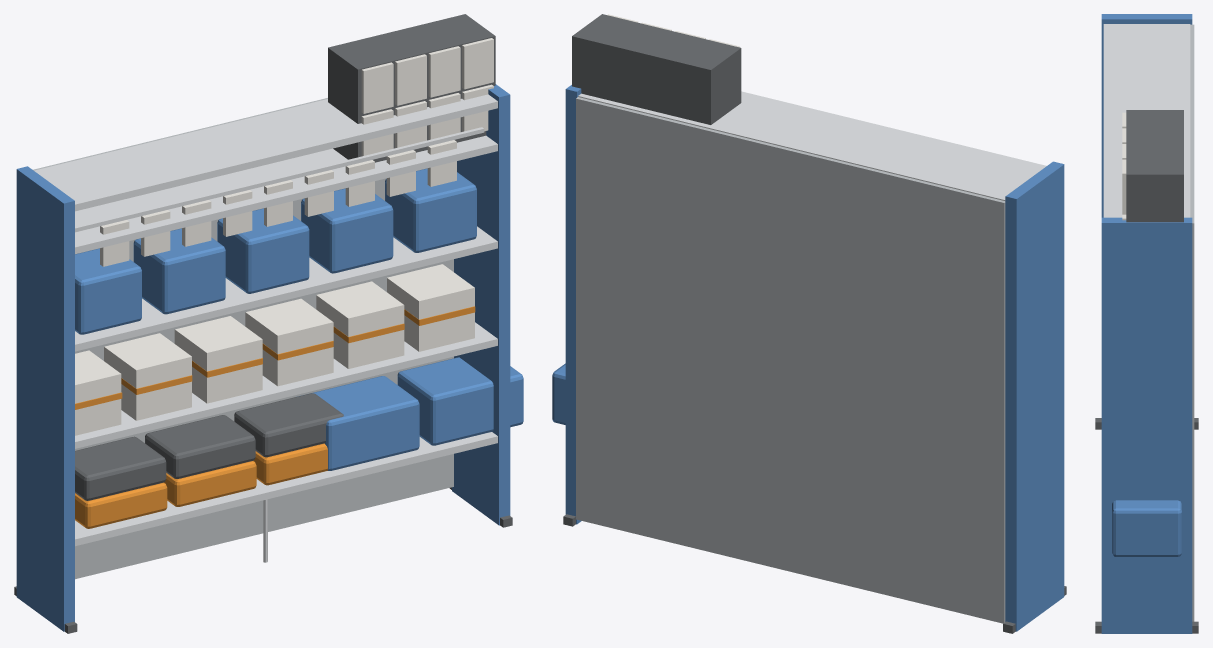
The model's file is tool-hire-depot-and-plant-yard-tool-hire-depot-and-pla-584e355b__35299.glb.
The picture shows the model from 3 angles, left to right: view 1: azimuth 30°, elevation 25°; view 2: azimuth 150°, elevation 25°; view 3: azimuth 270°, elevation 25°; orthographic projection. The views are drawn at different scales.
Visible parts, largest first — view 1: tool-hire-depot-and-plant-yard-counter-back-shelving; view 2: tool-hire-depot-and-plant-yard-counter-back-shelving; view 3: tool-hire-depot-and-plant-yard-counter-back-shelving.
Boxes of the visible parts, x1,y1,x2,y2 form: tool-hire-depot-and-plant-yard-counter-back-shelving: [14, 14, 523, 633]; tool-hire-depot-and-plant-yard-counter-back-shelving: [552, 14, 1066, 633]; tool-hire-depot-and-plant-yard-counter-back-shelving: [1095, 14, 1198, 633].
Size of the model in its own units: 2.51 by 2.45 by 0.4999.
